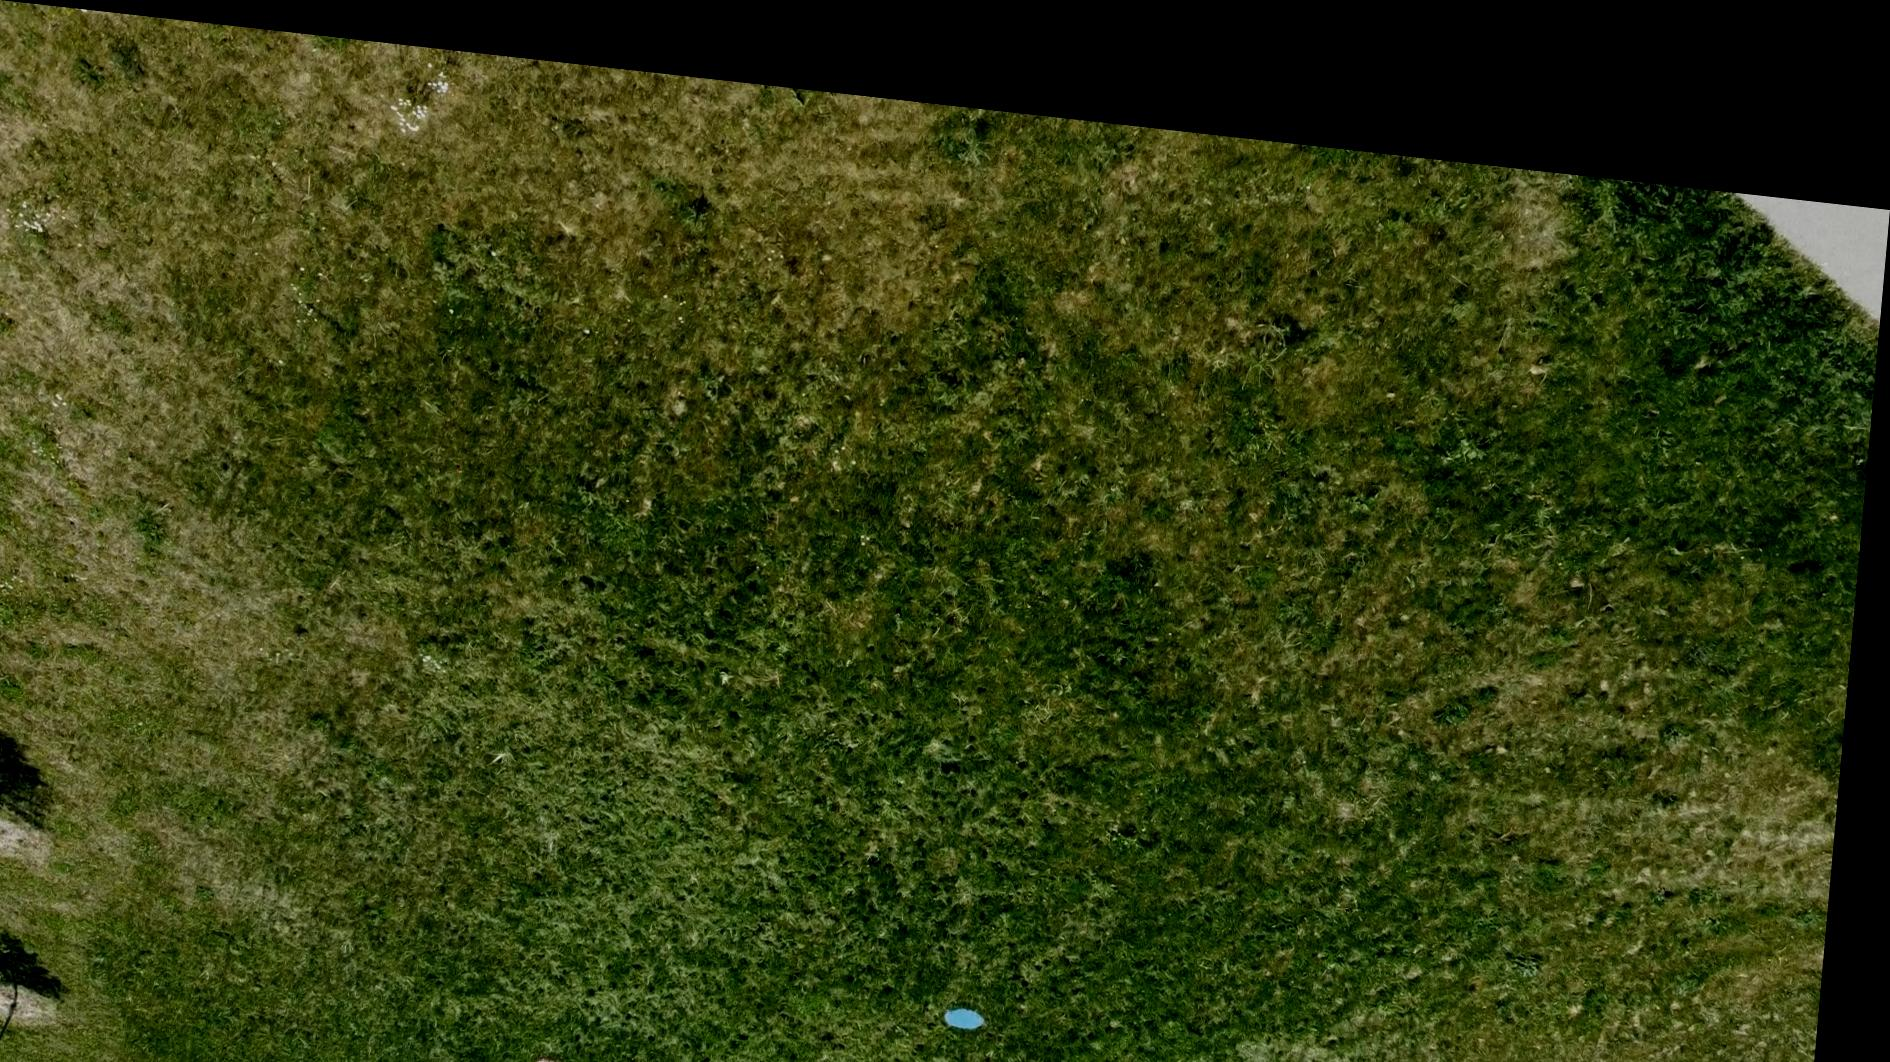Blue: (958, 978, 1005, 1010)
Red: (552, 1041, 591, 1062)
